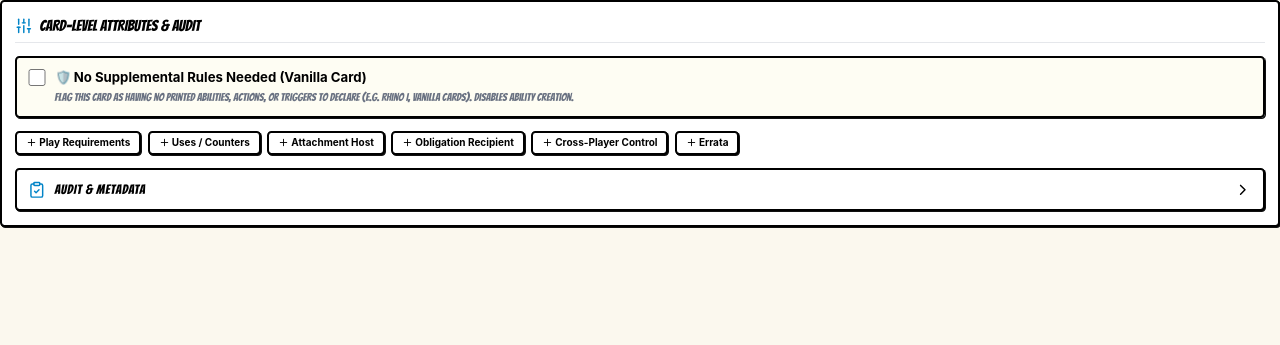
Scenario: CardAttributesSection card-level chip bar › adding the errata chip writes its default value and renders its form
This screenshot has width=1280, height=345.
Click the button with test id "card-chip-add-errata" at (707, 143), box [675, 131, 739, 155]
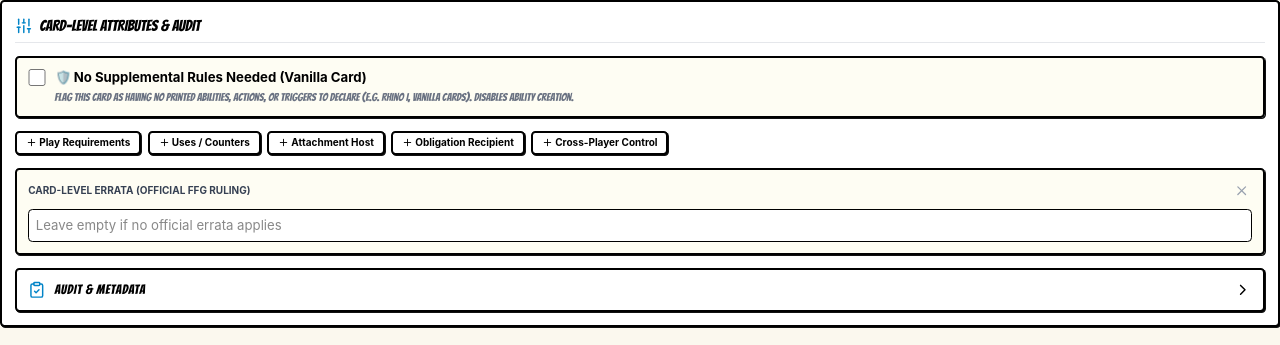
Check: the element with test id "card-section-errata" is shown, box [15, 168, 1265, 255]
Check: the button with test id "card-chip-add-errata" is gone
